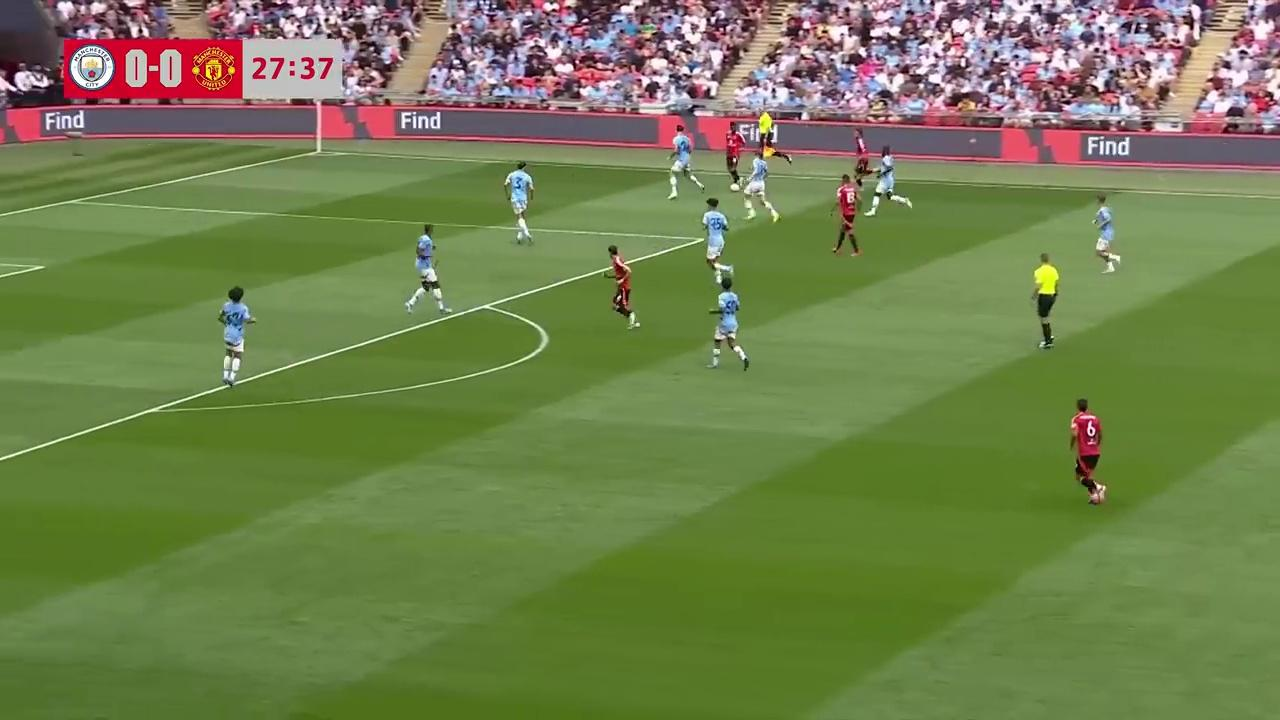player: (704, 274, 750, 370), (405, 224, 450, 315), (217, 286, 256, 387), (1069, 398, 1104, 505), (868, 146, 912, 215), (739, 150, 778, 222), (607, 245, 639, 329), (504, 161, 535, 246), (830, 174, 861, 256), (700, 197, 729, 282), (1091, 196, 1120, 273), (666, 142, 703, 199), (853, 143, 882, 192), (724, 143, 743, 187)
referee: (1030, 252, 1060, 349), (752, 109, 792, 167)
